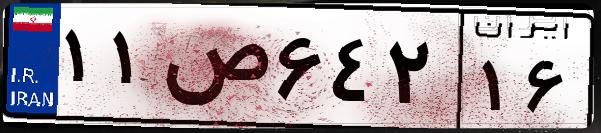1: (57, 26, 110, 100), (475, 38, 525, 113), (110, 28, 158, 98)
2: (385, 28, 445, 110)
4: (330, 28, 385, 110)
6: (270, 28, 330, 110), (525, 38, 570, 115)
ص: (158, 20, 270, 120)
